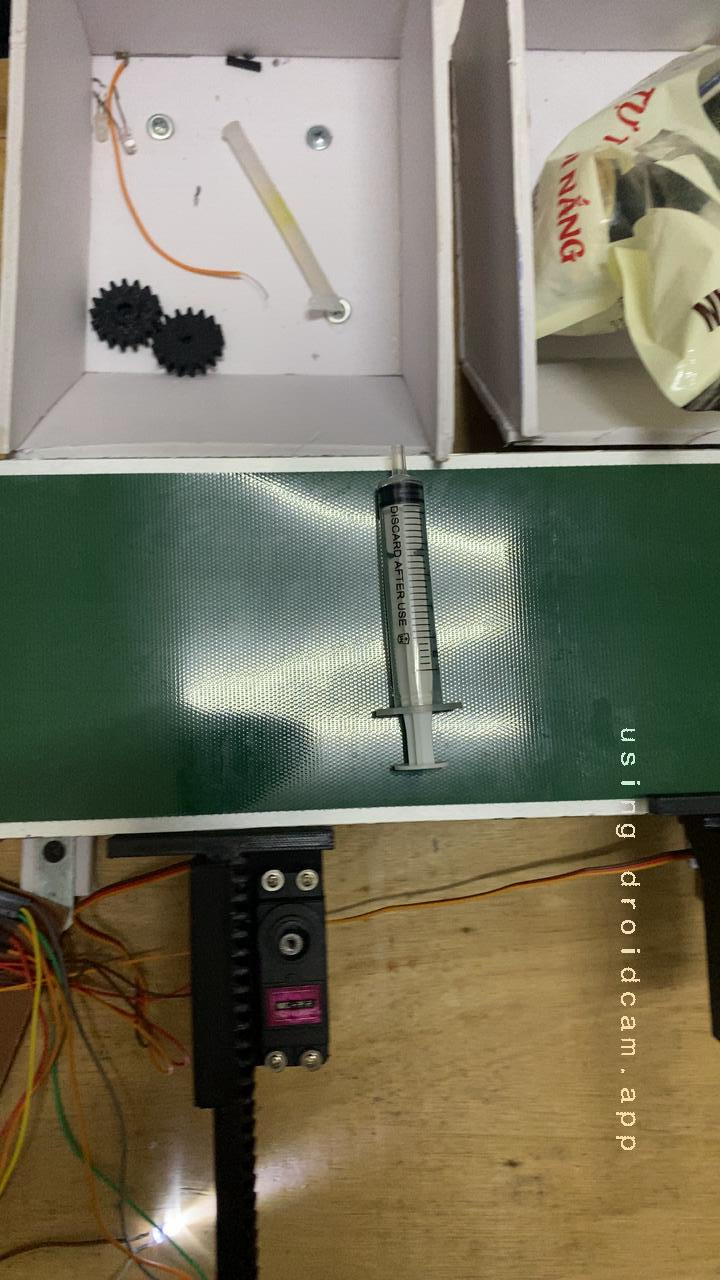syringe: (358, 467, 463, 776)
